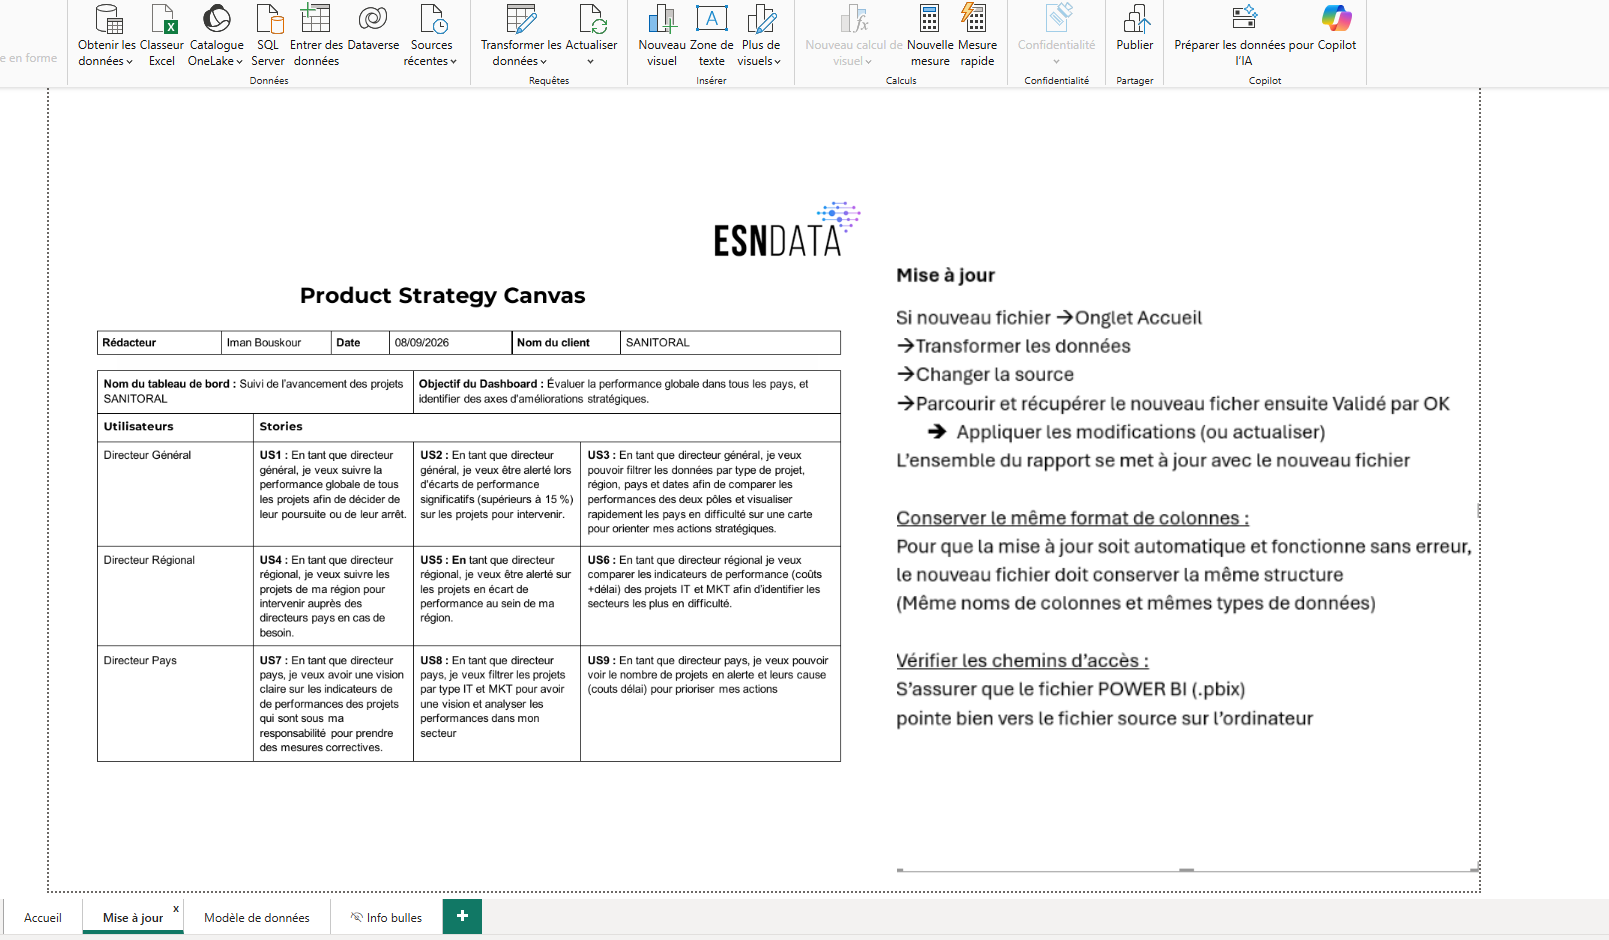

The dashboard page shown, as its layout file describes it:
{"tool":"powerbi","page":{"name":"Mise à jour","canvas":[1280,720],"ordinal":1},"visuals":[{"type":"image","box":[0,0,748.8,720.3],"z":0},{"type":"textbox","box":[759.3,58.9,520.7,661.4],"z":1000},{"type":"image","box":[759.3,49.4,520.7,670.9],"z":2000}]}

Visuals, with their boxes on the page's 1280x720 design canvas (x1, y1, x2, y2). These are canvas units, not pixel positions in the 1609x940 screenshot, which may show the page scaled, cropped or inside an application window:
image: <bbox>0, 0, 749, 720</bbox>
textbox: <bbox>759, 59, 1280, 720</bbox>
image: <bbox>759, 49, 1280, 720</bbox>
